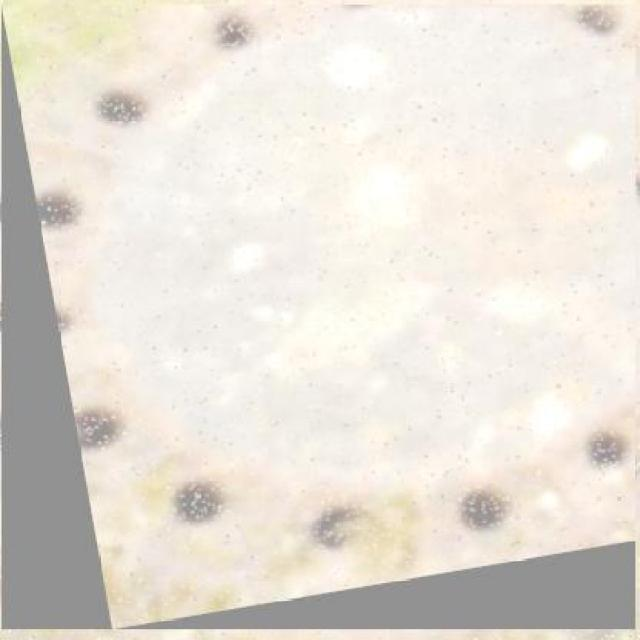Manhole: (2, 4, 636, 630)
